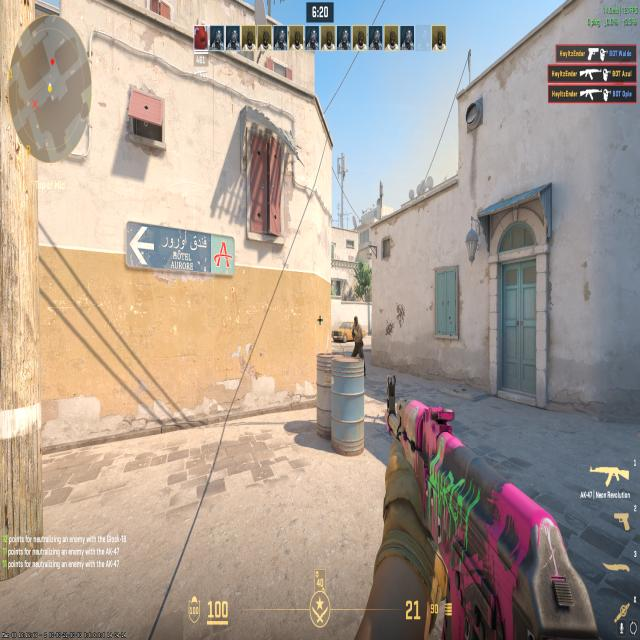t: (347, 312, 368, 356)
